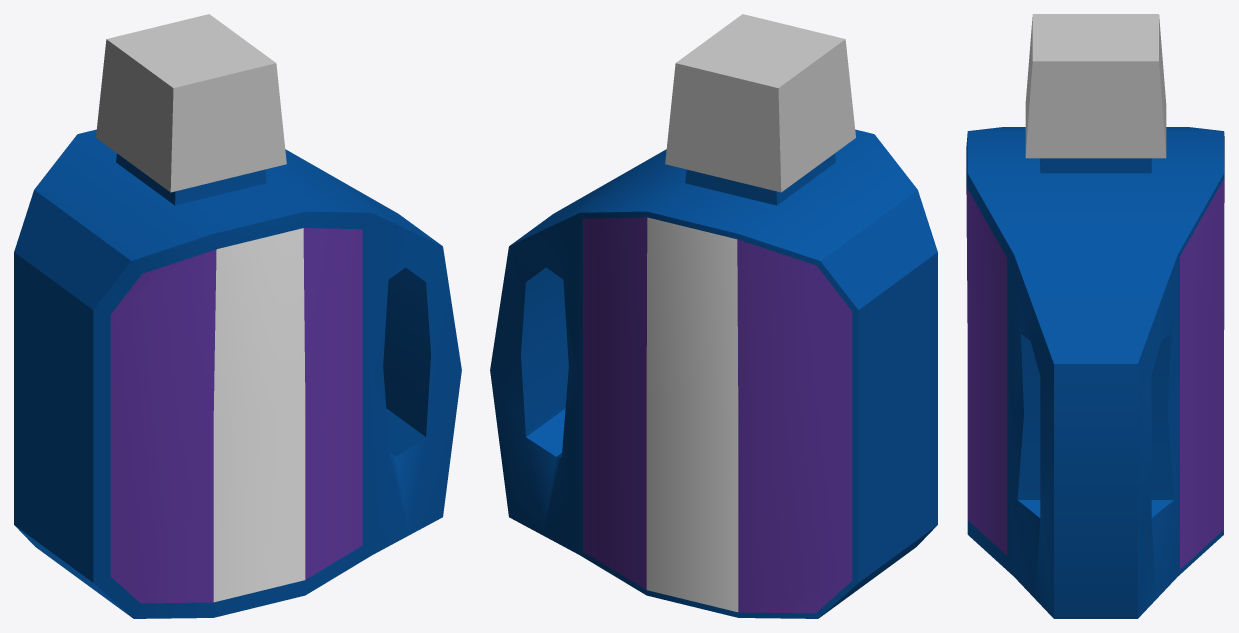
File: Laundry_Detergent.FBX
3 renders of one model, left to right at view 1: azimuth 30°, elevation 25°; view 2: azimuth 150°, elevation 25°; view 3: azimuth 270°, elevation 25°, orthographic. The views are drawn at different scales.
Parts seen in each view (by area): view 1: Laundry_Detergent; view 2: Laundry_Detergent; view 3: Laundry_Detergent.
Boxes of the visible parts, <box> form: Laundry_Detergent: <box>14,14,461,618</box>; Laundry_Detergent: <box>490,14,937,618</box>; Laundry_Detergent: <box>966,14,1224,618</box>.
Size of the model in its own units: 73.6 by 92.19 by 45.31.
